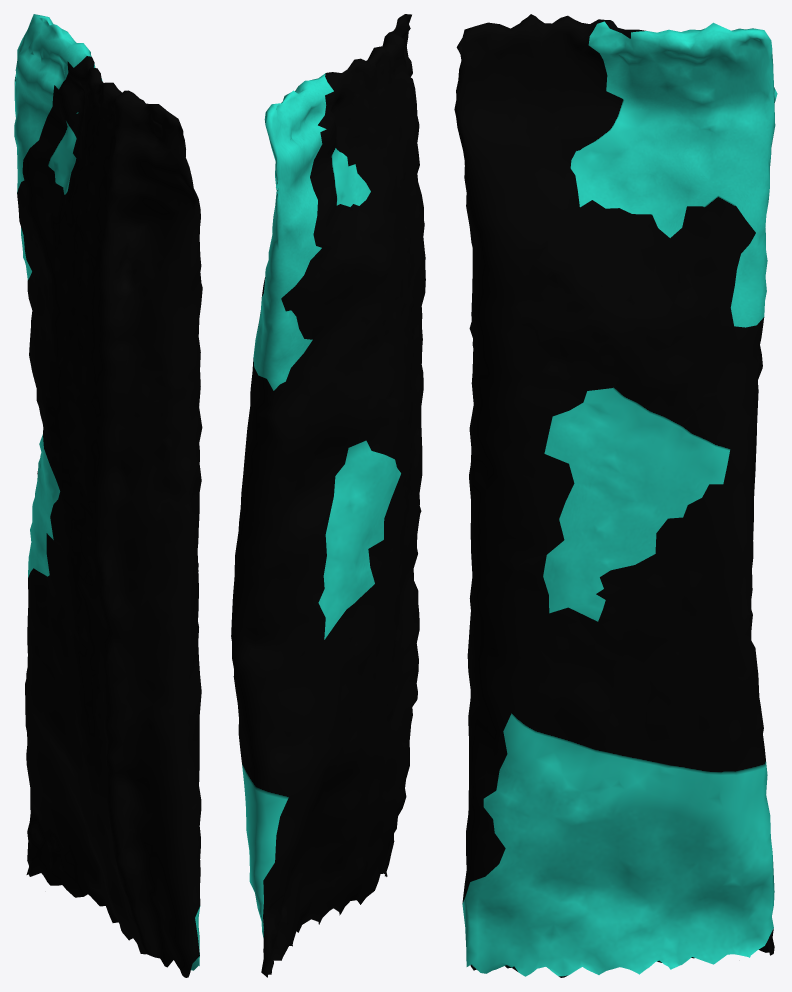
The picture shows the model from 3 angles, left to right: view 1: azimuth 30°, elevation 25°; view 2: azimuth 150°, elevation 25°; view 3: azimuth 270°, elevation 25°; orthographic projection. The views are drawn at different scales.
Size of the model in its own units: 0.1367 by 1 by 0.3122.
